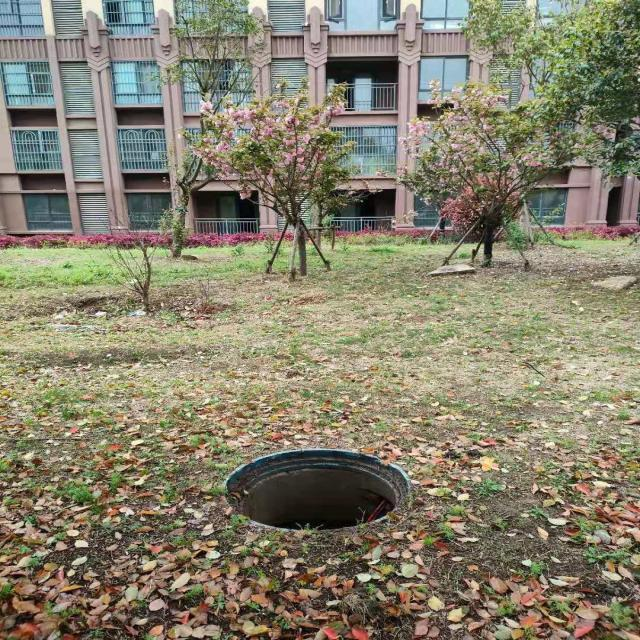Faulty: (225, 448, 410, 534)
